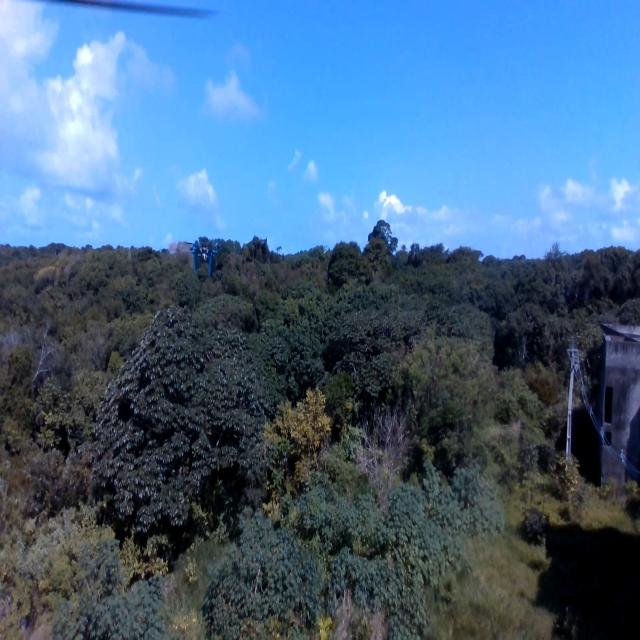-uav-: (187, 226, 220, 278)
